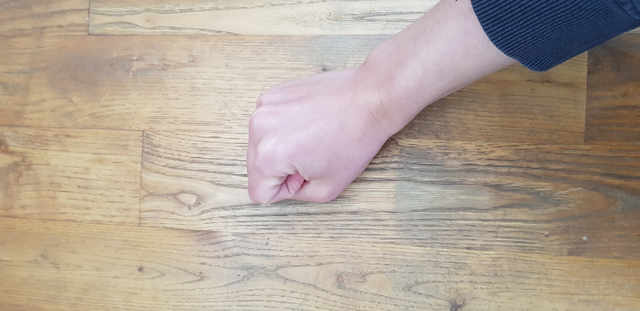Rock: (211, 74, 426, 225)
